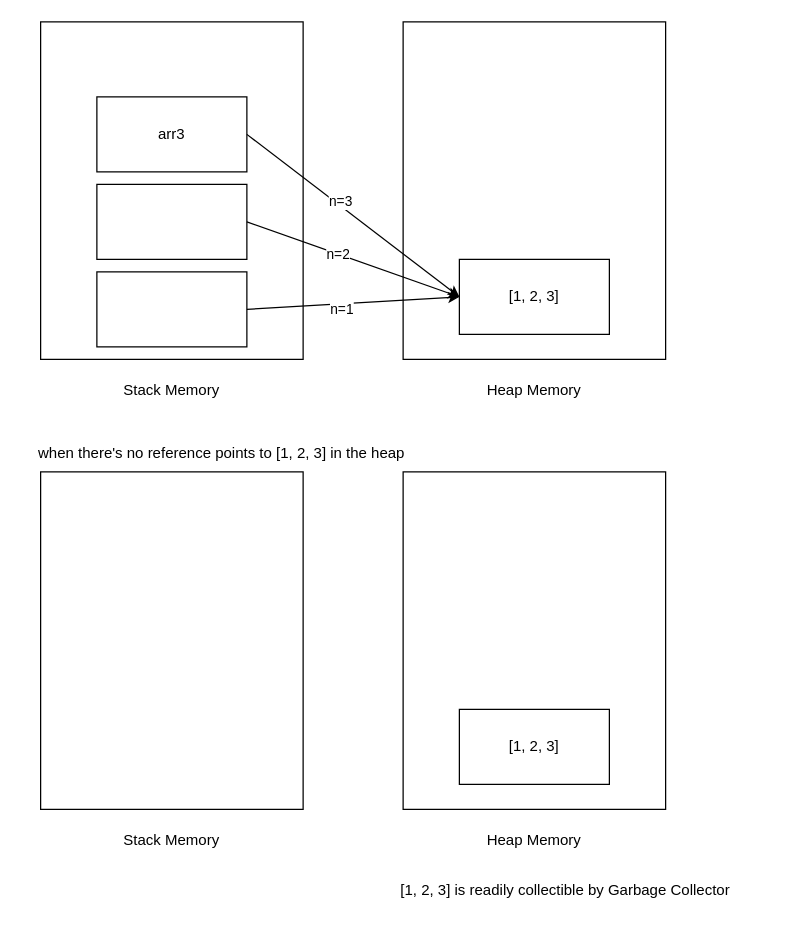
Image size: 786x931. Some labels were removed from this diagram. Here are the shapes that lost their labels. From the top down, the box of each, then its label:
(96, 183, 247, 259): arr2
(96, 271, 247, 347): arr
